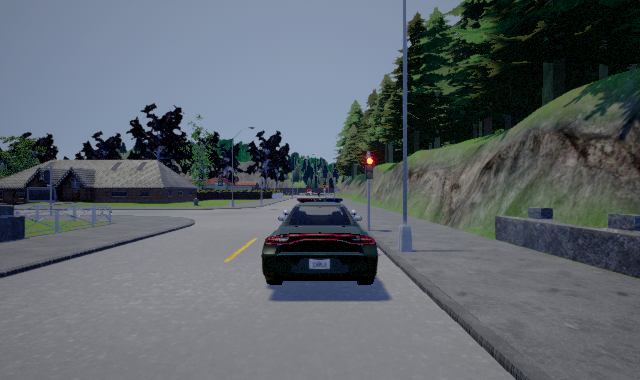traffic_light: (366, 153, 373, 184)
vehicle: (261, 198, 378, 285)
